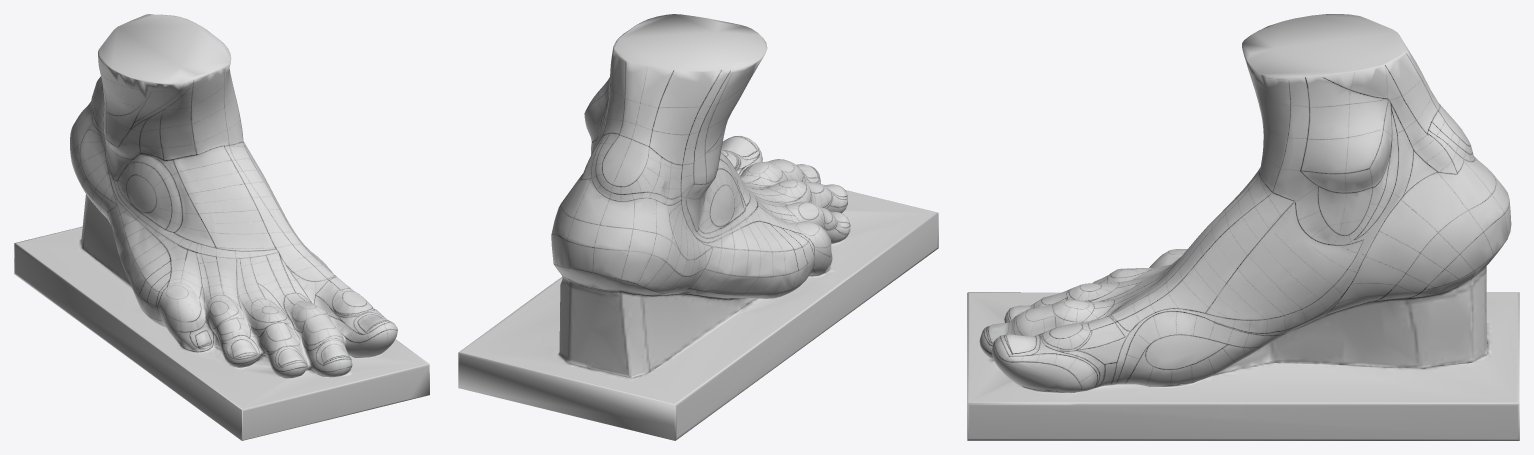
File: 脚_20260324191121_std_opt.glb
3 renders of one model, left to right at view 1: azimuth 30°, elevation 25°; view 2: azimuth 150°, elevation 25°; view 3: azimuth 270°, elevation 25°, orthographic. The views are drawn at different scales.
Parts seen in each view (by area): view 1: ColossalFoot_R; view 2: ColossalFoot_R; view 3: ColossalFoot_R.
Boxes of the visible parts, box(x1,y1,x2,y2) form: ColossalFoot_R: box(14, 14, 429, 440); ColossalFoot_R: box(458, 14, 938, 440); ColossalFoot_R: box(967, 14, 1519, 440).
Bounding box in the file's own units: 0.1443 × 0.2 × 0.3027.
1 material, 1 textured.
